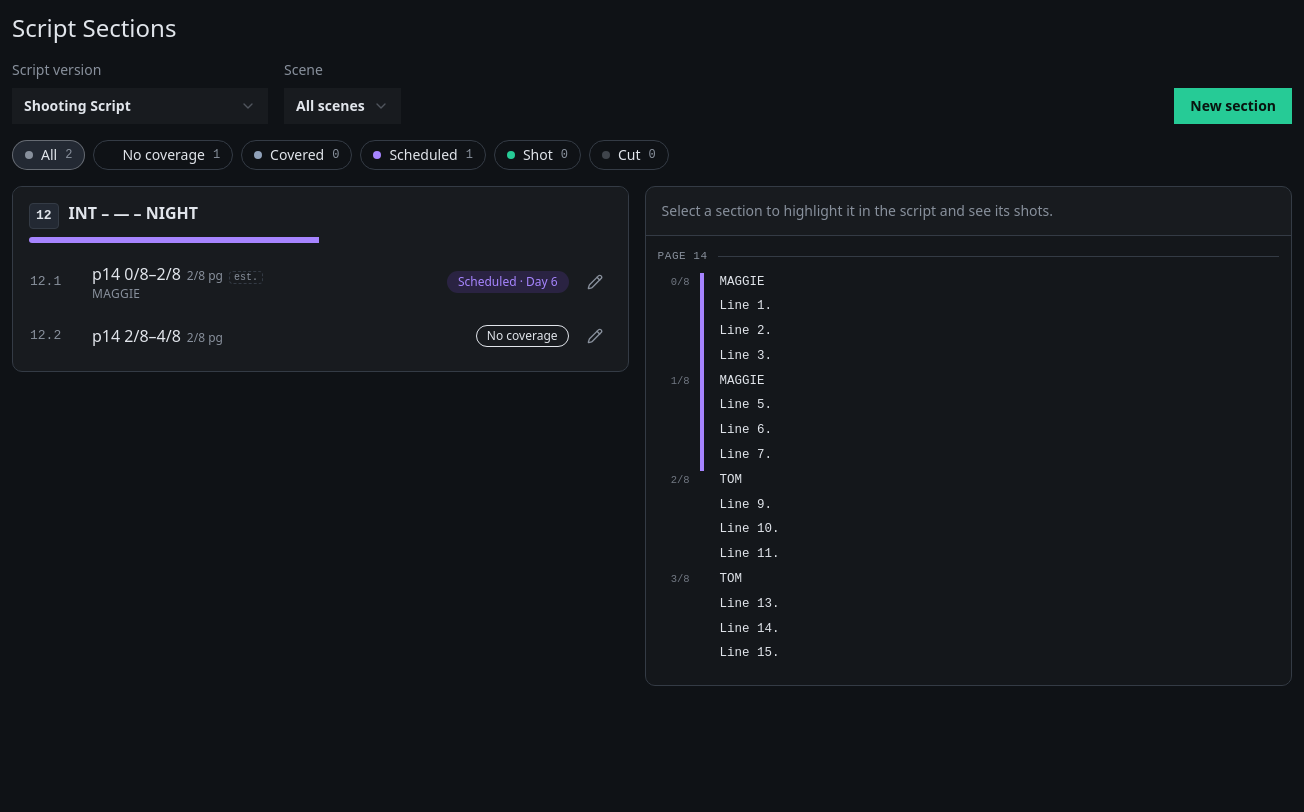
Scenario: ScriptSectionsPage › filters by status
The image size is (1304, 812).
Check: the option "12.1" is shown, box x1=21 y1=252 x2=620 y2=310
Click the button "No coverage 1": (163, 155) x1=93 y1=140 x2=233 y2=170
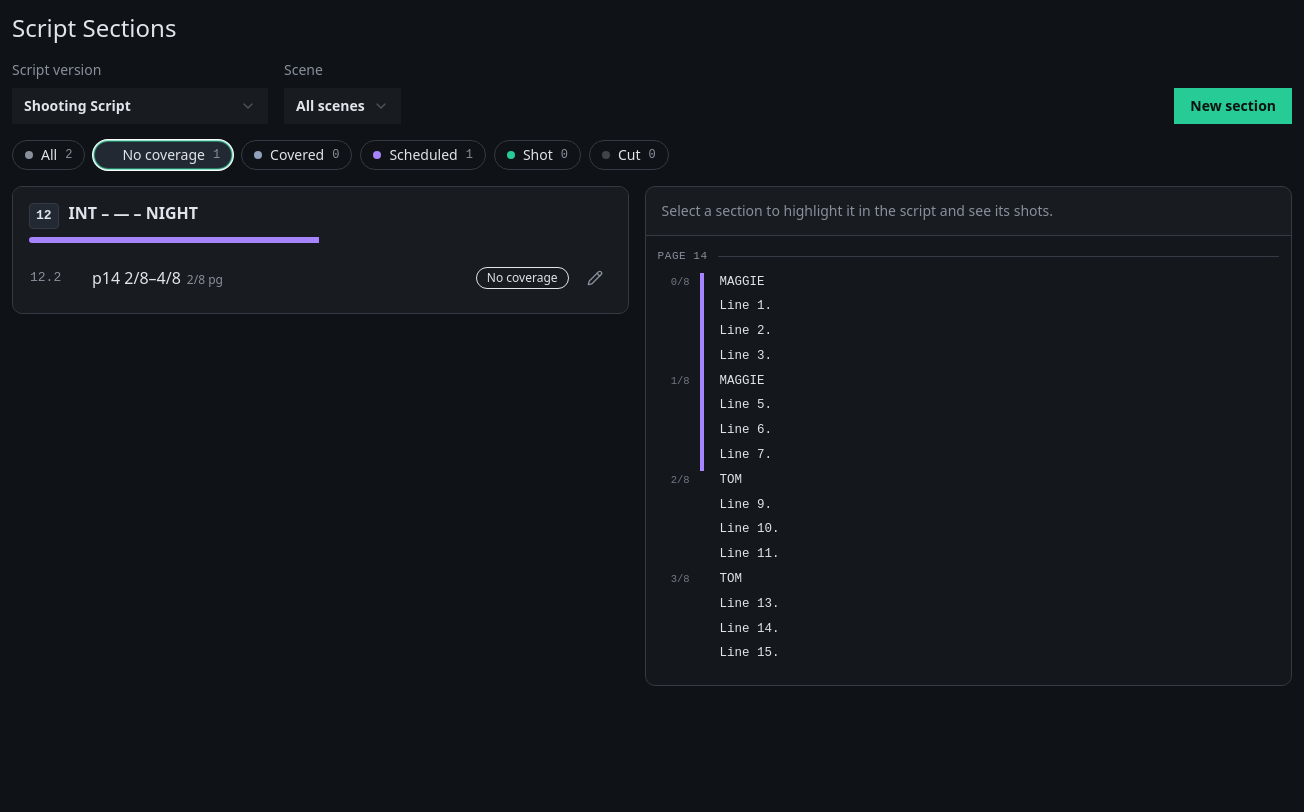
Check: the option "12.1" is gone
